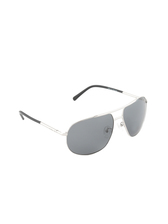glasses: (16, 83, 151, 156)
